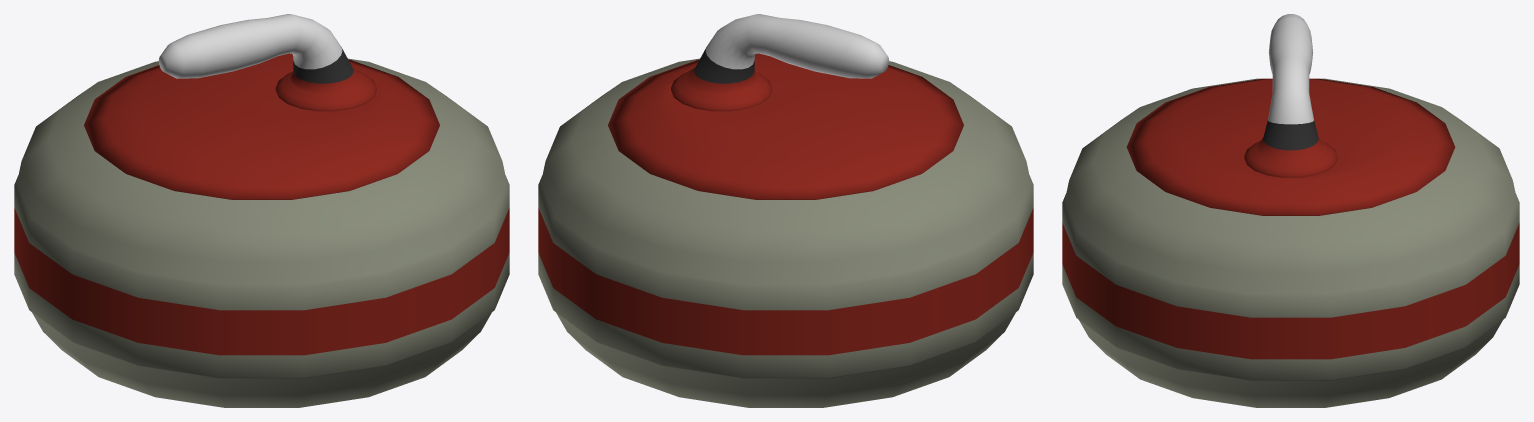
The model's file is PierreRouge.dae.
3 renders of one model, left to right at view 1: azimuth 30°, elevation 25°; view 2: azimuth 150°, elevation 25°; view 3: azimuth 270°, elevation 25°, orthographic. The views are drawn at different scales.
Visible parts, largest first — view 1: curlingstone; view 2: curlingstone; view 3: curlingstone.
Part boxes in pixels (x1,y1,x2,y2): curlingstone: (14,14,509,407); curlingstone: (538,14,1033,407); curlingstone: (1062,14,1519,407).
Size of the model in its own units: 0.1659 by 0.1685 by 0.1184.
